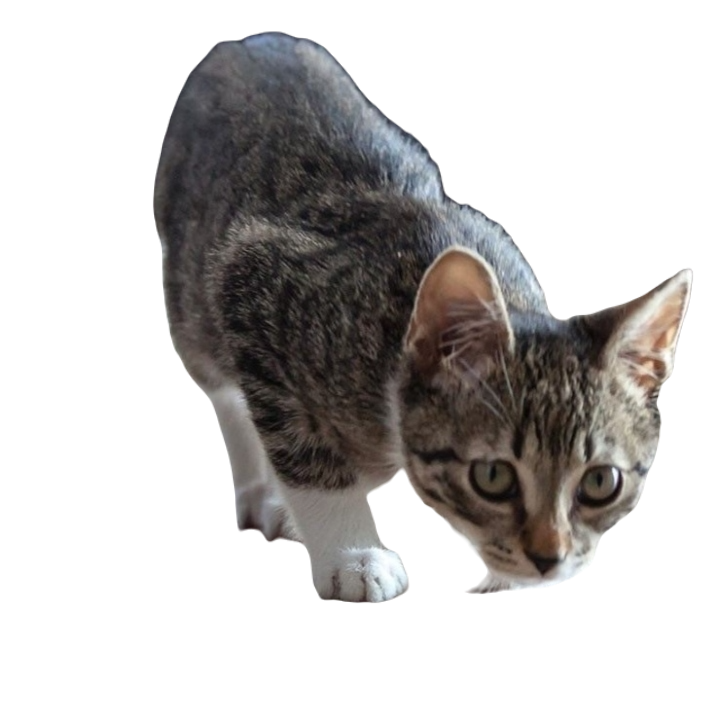Cat: (147, 30, 698, 605)
